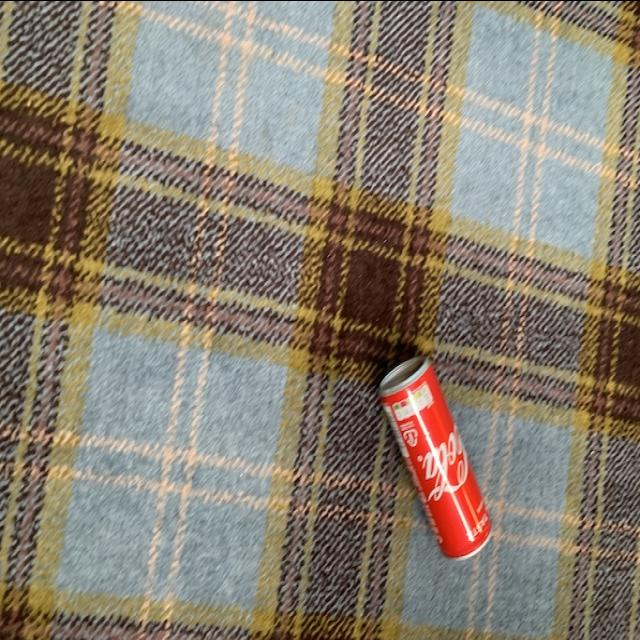litter: (373, 350, 499, 562)
